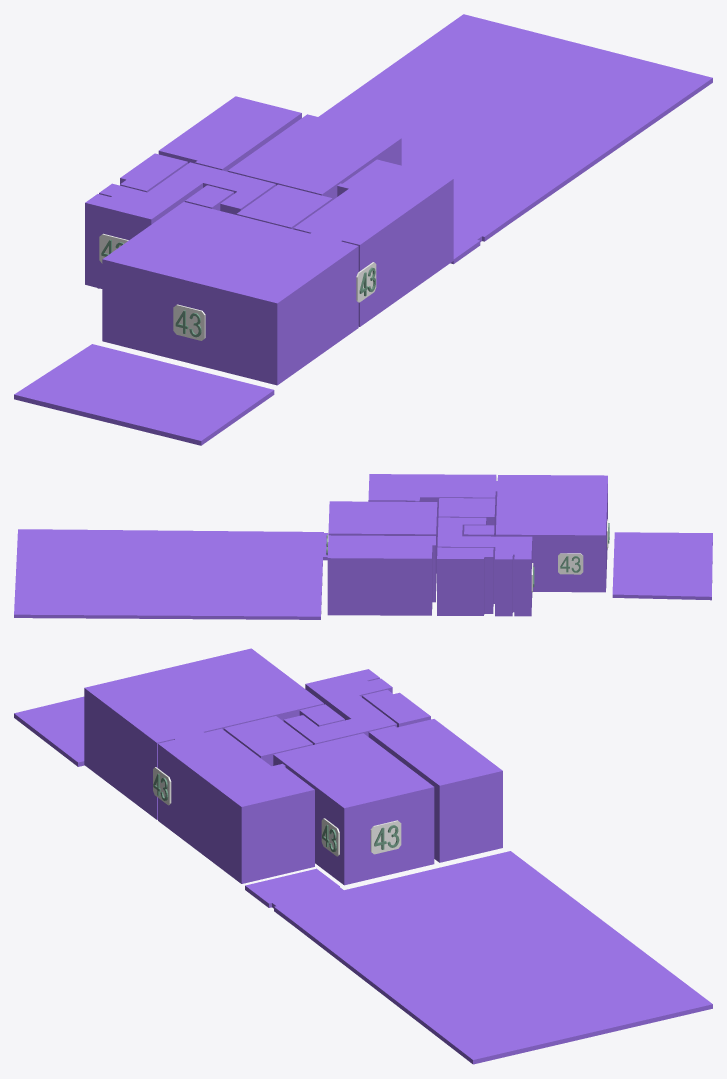
3 renders of one model, top to bottom at view 1: azimuth 30°, elevation 25°; view 2: azimuth 150°, elevation 25°; view 3: azimuth 270°, elevation 25°, orthographic. The views are drawn at different scales.
Visible parts, largest first — view 1: g_8, g_7, g_9, g_2, g_1, g_5, g_0, g_3, g_6, g_27, g_4; view 2: g_8, g_7, g_0, g_9, g_5, g_6, g_1, g_2, g_3, g_15, g_4; view 3: g_8, g_7, g_2, g_1, g_0, g_5, g_9, g_3, g_6, g_24.
Boxes of the visible parts, x1,y1,x2,y2 form: g_8: [318, 14, 712, 264]; g_7: [102, 202, 358, 385]; g_9: [14, 344, 274, 445]; g_2: [293, 159, 453, 326]; g_1: [227, 114, 401, 199]; g_5: [85, 162, 275, 288]; g_0: [158, 96, 301, 171]; g_3: [236, 184, 332, 229]; g_6: [120, 153, 187, 192]; g_27: [173, 304, 205, 340]; g_4: [185, 185, 233, 210]; g_8: [14, 529, 327, 619]; g_7: [495, 475, 607, 592]; g_0: [327, 535, 435, 615]; g_9: [612, 532, 712, 600]; g_5: [437, 517, 532, 616]; g_6: [437, 547, 493, 615]; g_1: [328, 501, 437, 590]; g_2: [368, 474, 496, 546]; g_3: [438, 498, 495, 536]; g_15: [558, 553, 583, 574]; g_4: [464, 525, 494, 536]; g_8: [245, 851, 712, 1064]; g_7: [84, 648, 323, 819]; g_2: [158, 728, 314, 883]; g_1: [273, 733, 434, 885]; g_0: [368, 719, 502, 862]; g_5: [283, 669, 396, 744]; g_9: [14, 696, 84, 766]; g_3: [223, 716, 312, 766]; g_6: [362, 689, 430, 727]; g_24: [370, 820, 401, 854].
Size of the model in its own units: 27.87 by 2.74 by 21.15.
